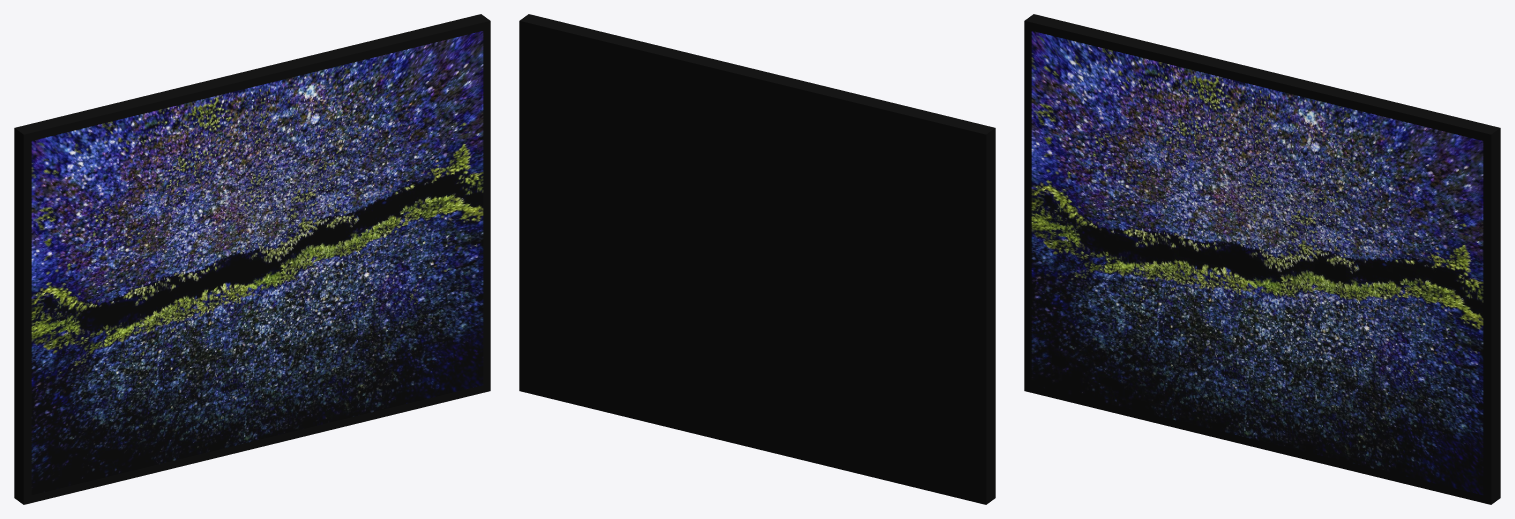
File: cosmic-return-large.glb
3 views of the same model, side by side, from view 1: azimuth 30°, elevation 25°; view 2: azimuth 150°, elevation 25°; view 3: azimuth 330°, elevation 25° (orthographic).
Bounding box in the file's own units: 1.1 × 0.8361 × 0.0392.
2 materials, 1 textured.
